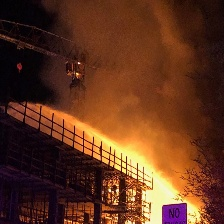fire: (132, 158, 176, 216)
